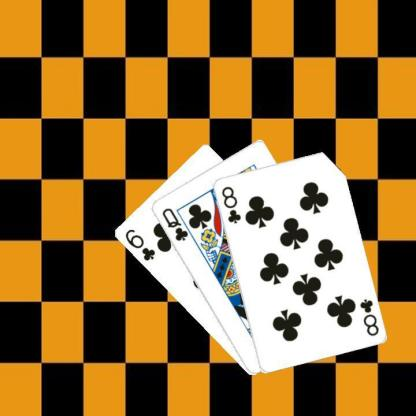6C: (122, 226, 156, 262)
8C: (218, 183, 242, 225), (357, 296, 380, 337)
QC: (159, 205, 189, 242)
